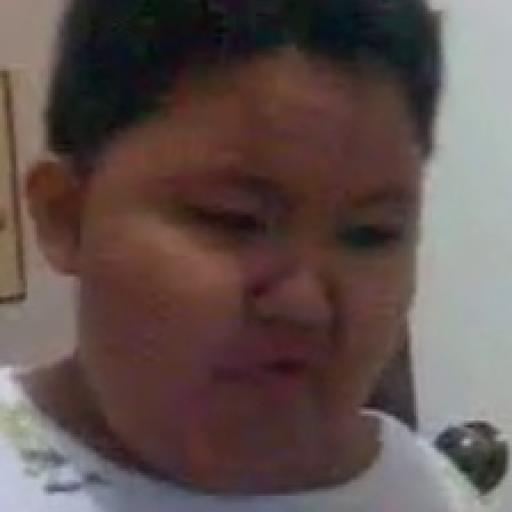Autism: (36, 0, 434, 485)
